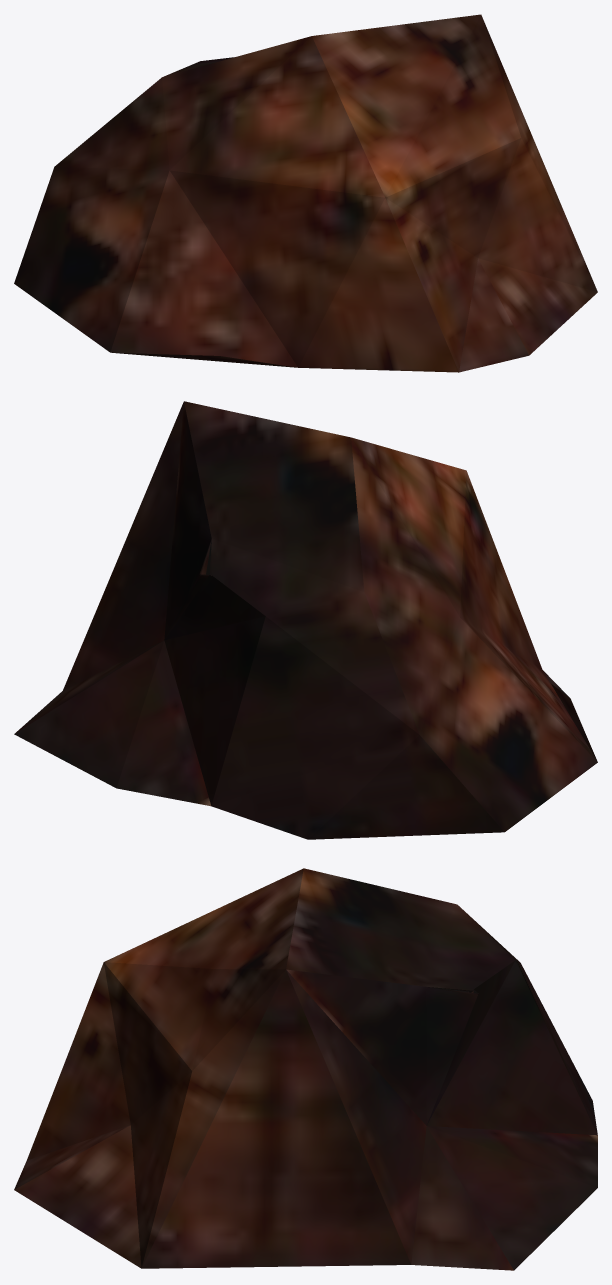
The model's file is red_sandstone_lod2.glb.
3 renders of one model, top to bottom at view 1: azimuth 30°, elevation 25°; view 2: azimuth 150°, elevation 25°; view 3: azimuth 270°, elevation 25°, orthographic. The views are drawn at different scales.
Visible parts, largest first — view 1: red_sandstone_lod2; view 2: red_sandstone_lod2; view 3: red_sandstone_lod2.
Part boxes in pixels (x1,y1,x2,y2): red_sandstone_lod2: (14,14,597,372); red_sandstone_lod2: (14,401,597,839); red_sandstone_lod2: (14,868,597,1270).
Size of the model in its own units: 0.9235 by 0.518 by 0.961.
Materials: 1 (1 with a texture image).
